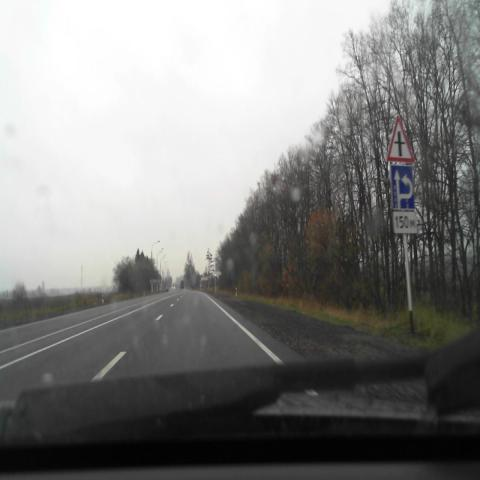2_3: (386, 114, 414, 162)
8_1_1: (393, 212, 417, 233)
